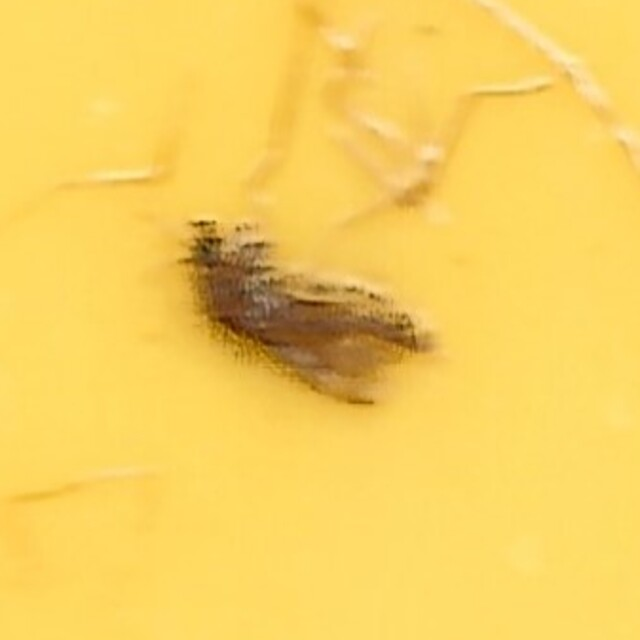Nematocera: (190, 221, 450, 419)
